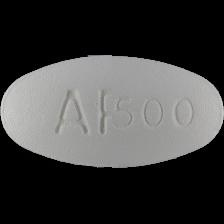60429-349: (0, 0, 224, 224)
